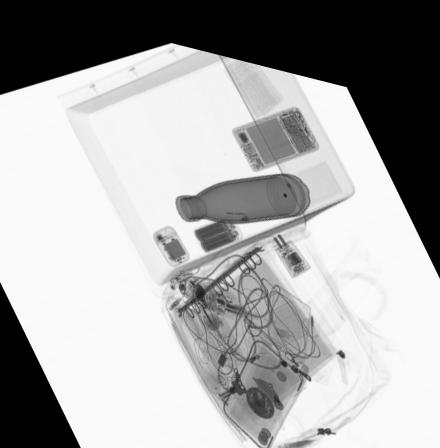Powerbank: (191, 205, 244, 245)
